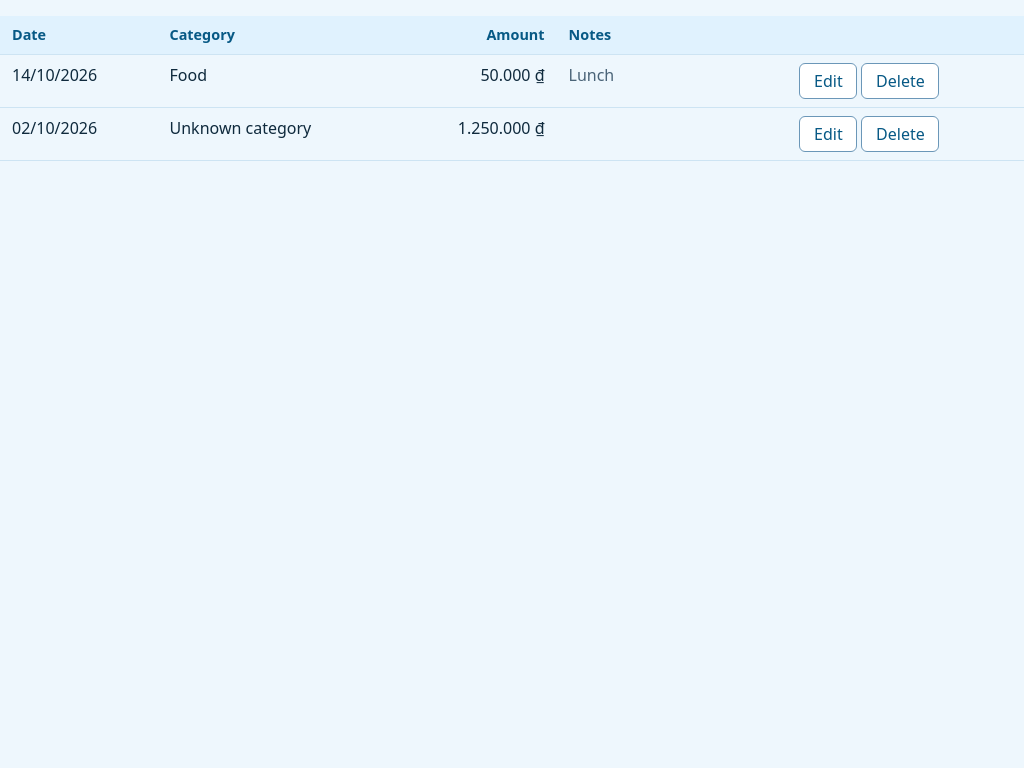
Test: shows an error when delete fails
Step 1. Click the button with aria-label "Delete Food" → (900,81), box [862,63,939,99]
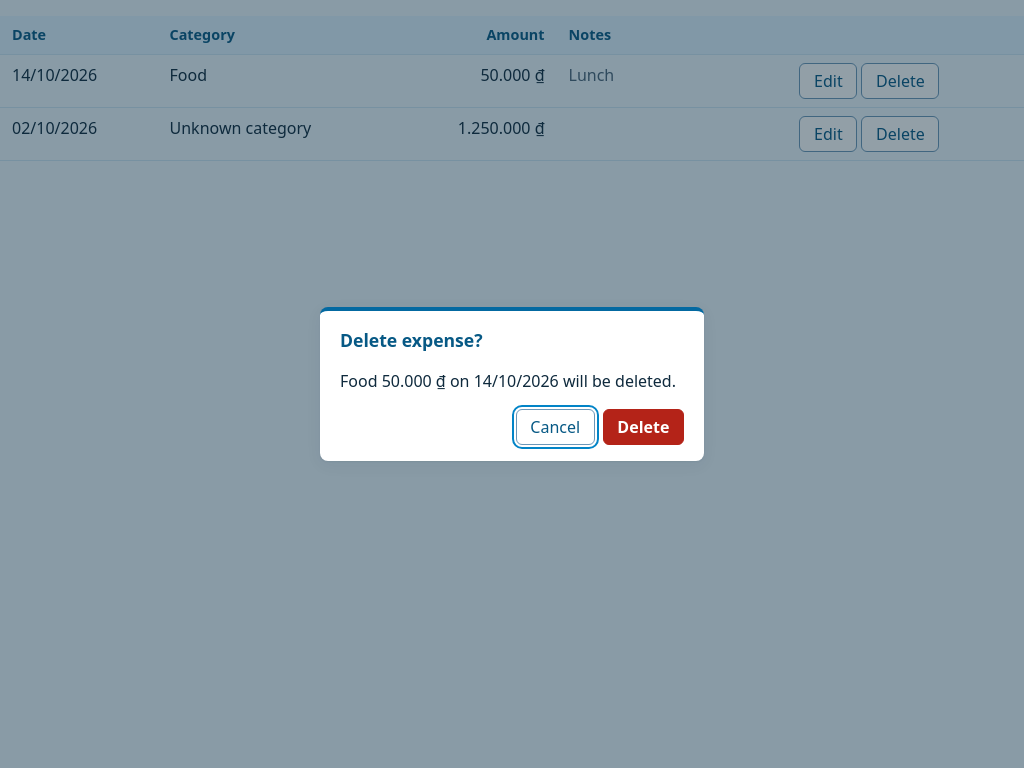
Step 2. Click the button "Delete" → (643,427), box [603,409,684,445]
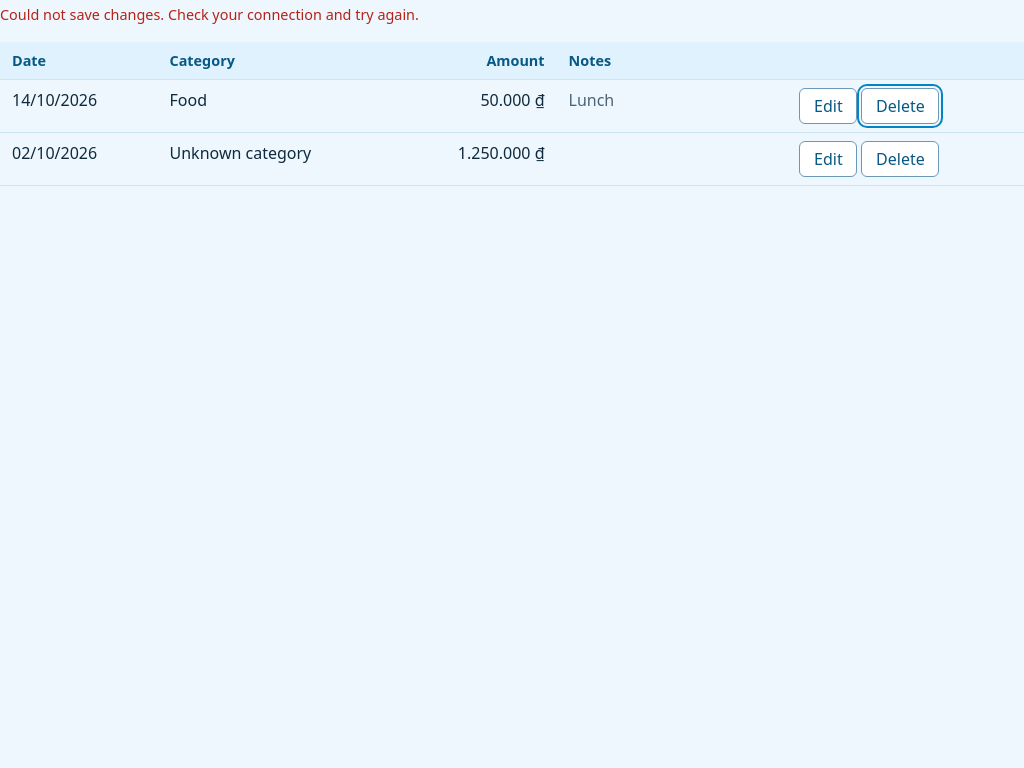
Check: the message reads "Could not save changes. Check your connection and try again.", box [0,5,419,24]
